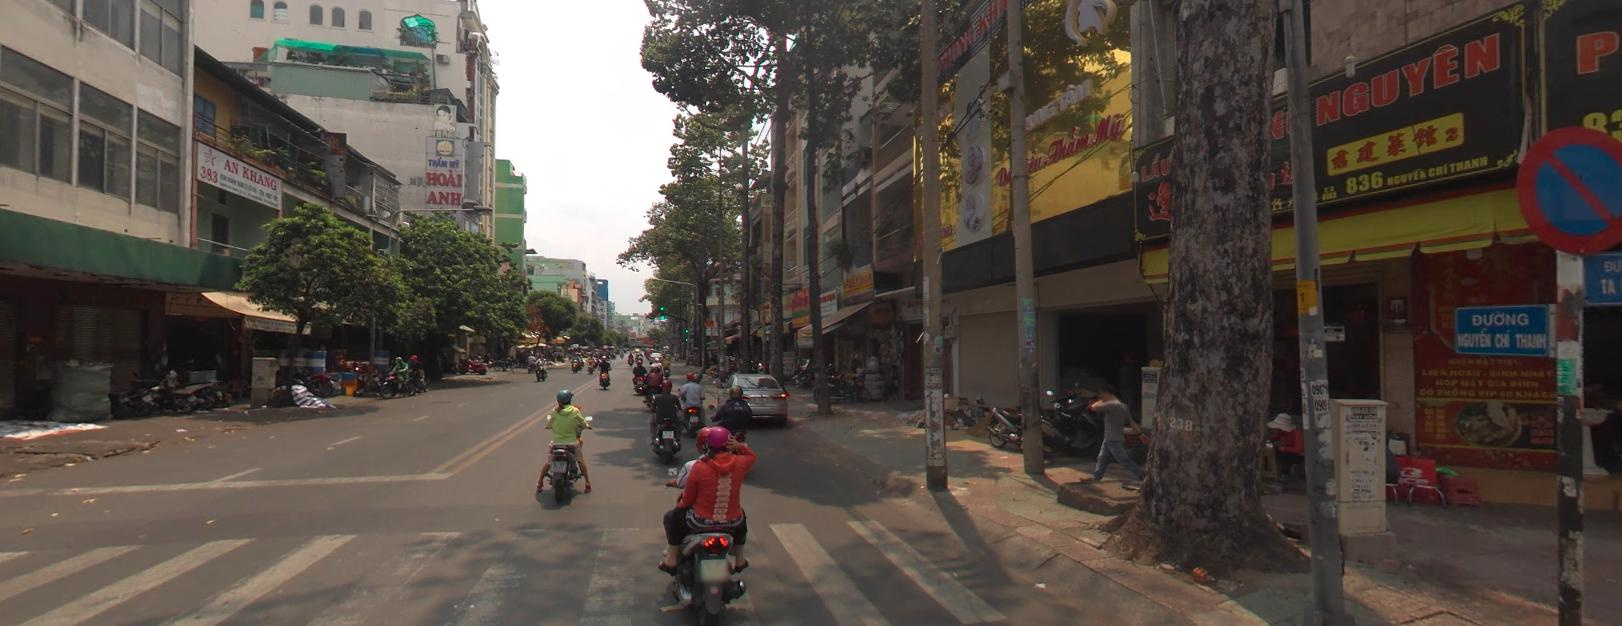Cam dung va do: (1513, 125, 1621, 248)
